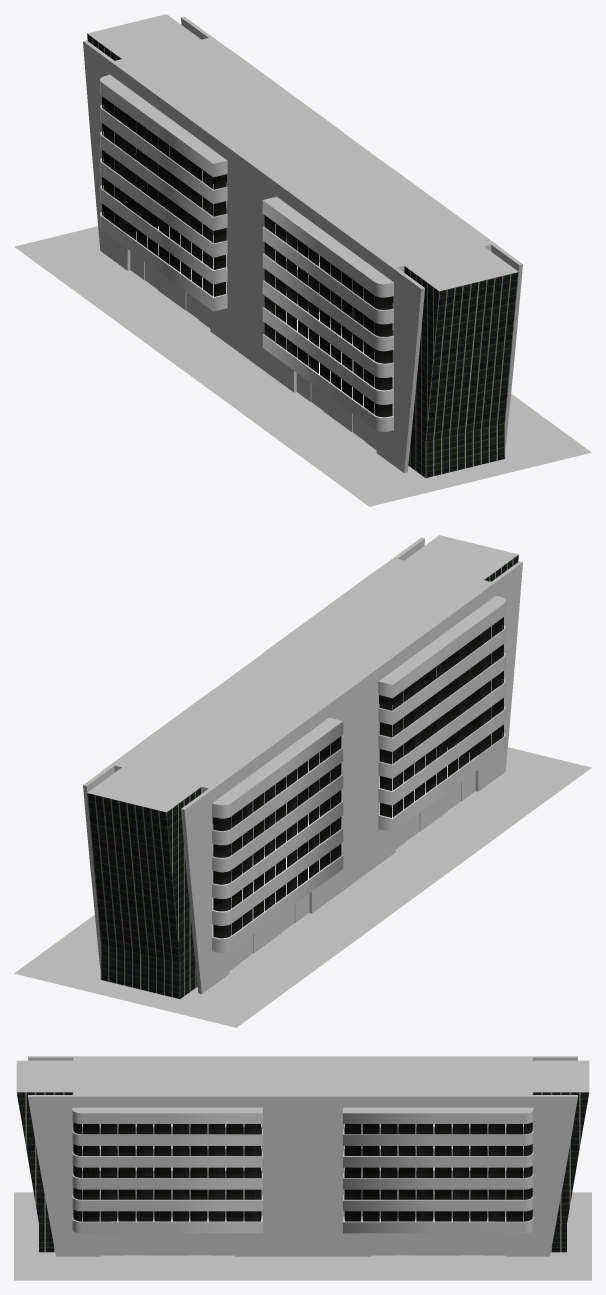
The picture shows the model from 3 angles, top to bottom: view 1: azimuth 30°, elevation 25°; view 2: azimuth 150°, elevation 25°; view 3: azimuth 270°, elevation 25°; orthographic projection. The views are drawn at different scales.
Parts seen in each view (by area): view 1: M-002; view 2: M-002; view 3: M-002.
Boxes of the visible parts, box(x1,y1,x2,y2) form: M-002: box(14, 14, 591, 506); M-002: box(14, 535, 591, 1027); M-002: box(14, 1056, 591, 1280).
Size of what is drawn, in the model's own units: 26.01 by 22 by 72.
